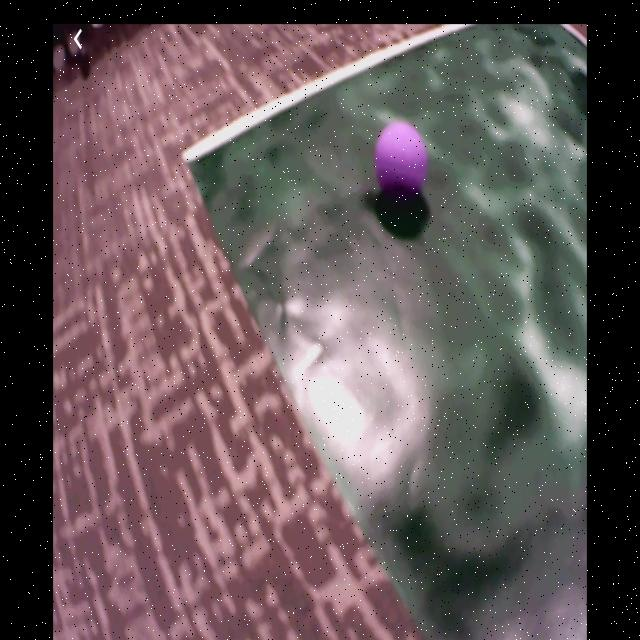ball: (378, 121, 426, 209)
